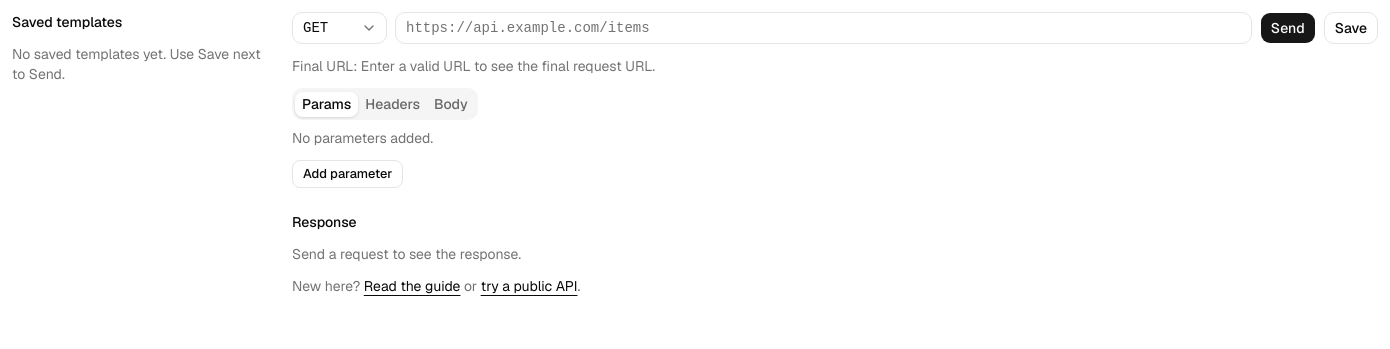
Scenario: Headers tab (FR-01) › a disabled forbidden header shows no warning
Click the tab "Headers".
click(393, 104)  # box left=358, top=92, right=427, bottom=116
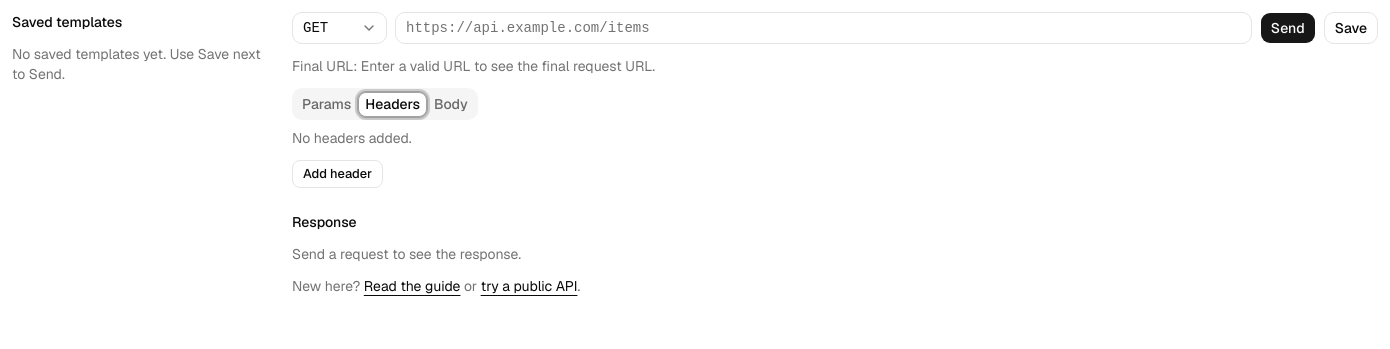
Click the button "Add header".
click(338, 174)  # box left=292, top=160, right=383, bottom=188
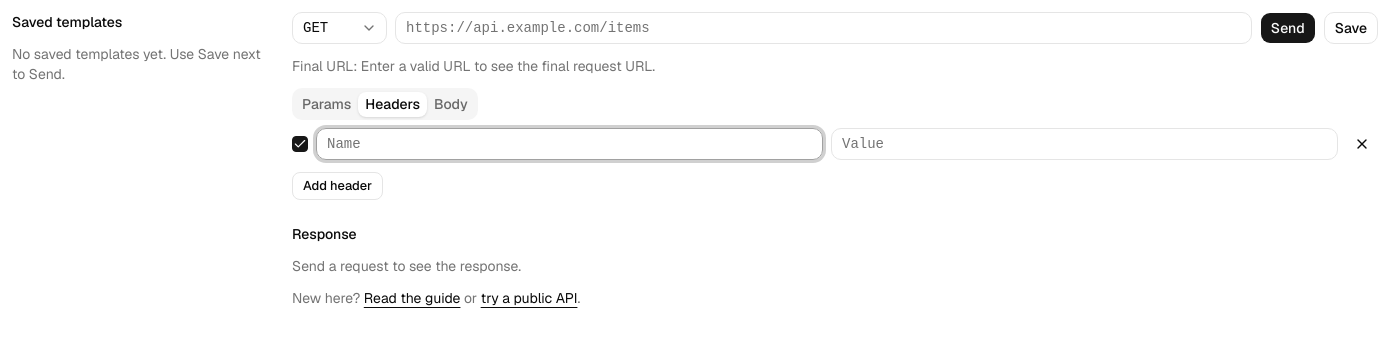
Type keys "Cookie"
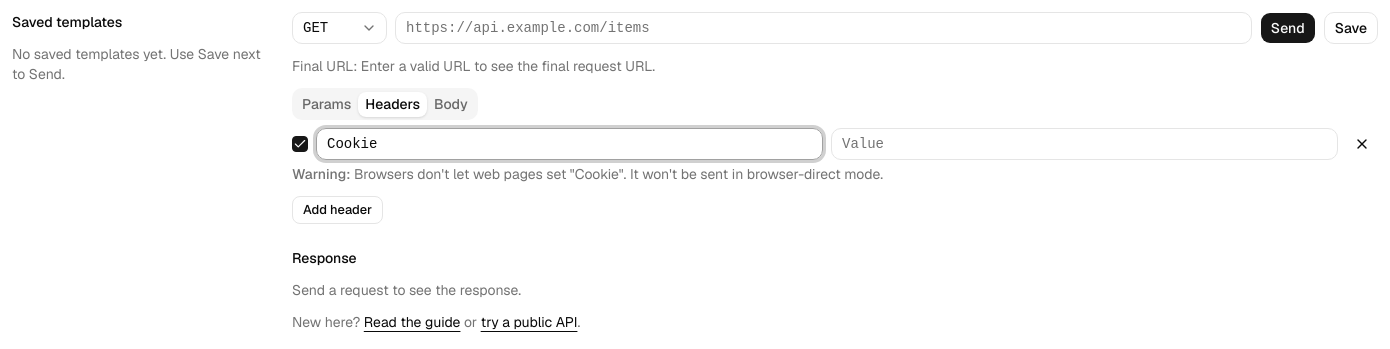
Click the checkbox named "Enable header 1".
click(300, 144)  # box left=292, top=136, right=308, bottom=152
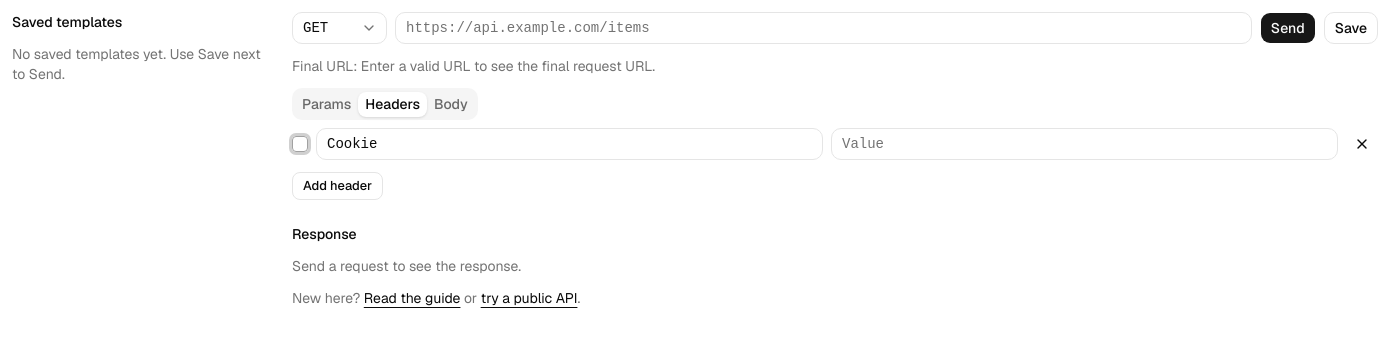
Check: the text "Browsers don't let web pages set" is gone
